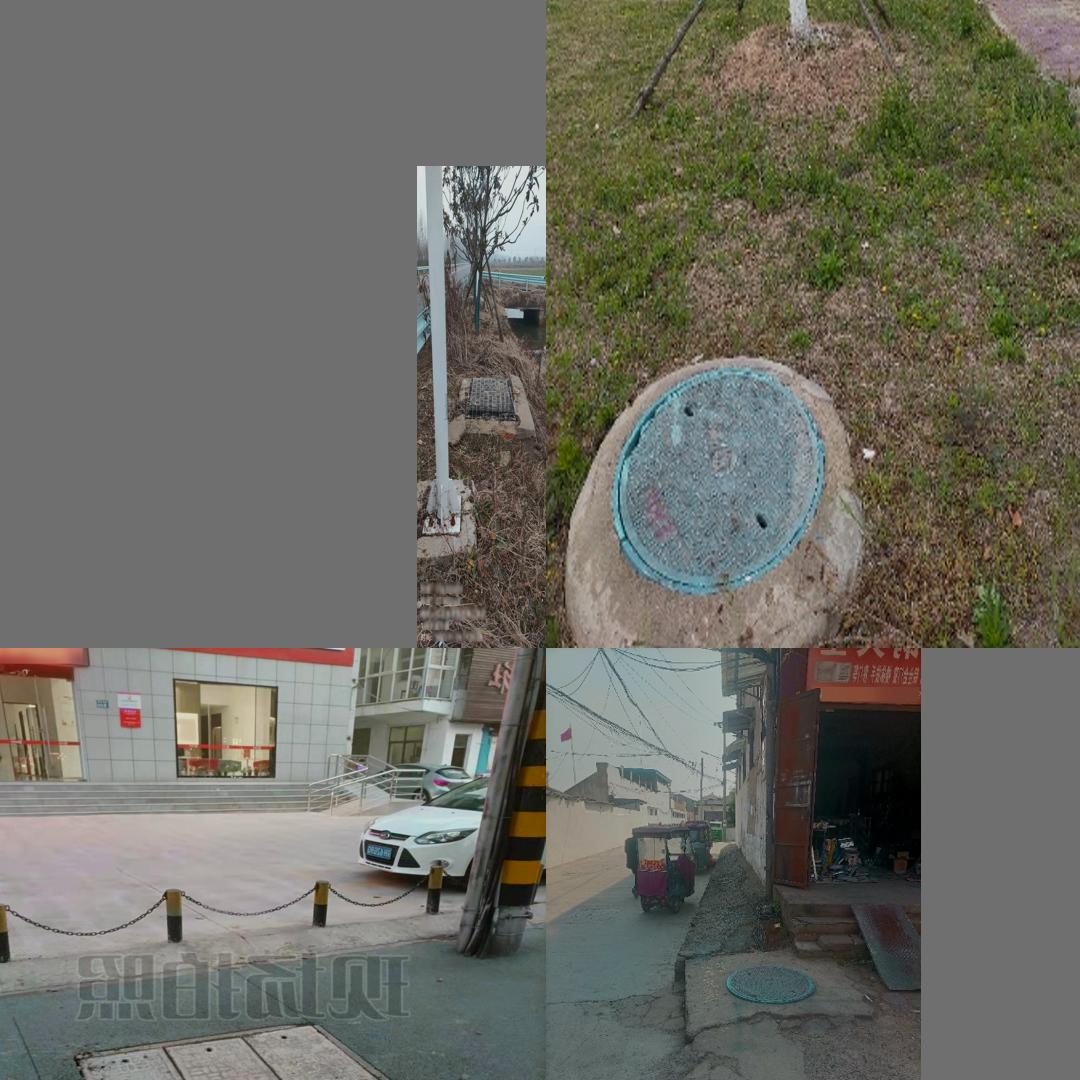good: (610, 353, 828, 592), (77, 1022, 429, 1080), (722, 954, 817, 1001), (466, 369, 517, 420)
